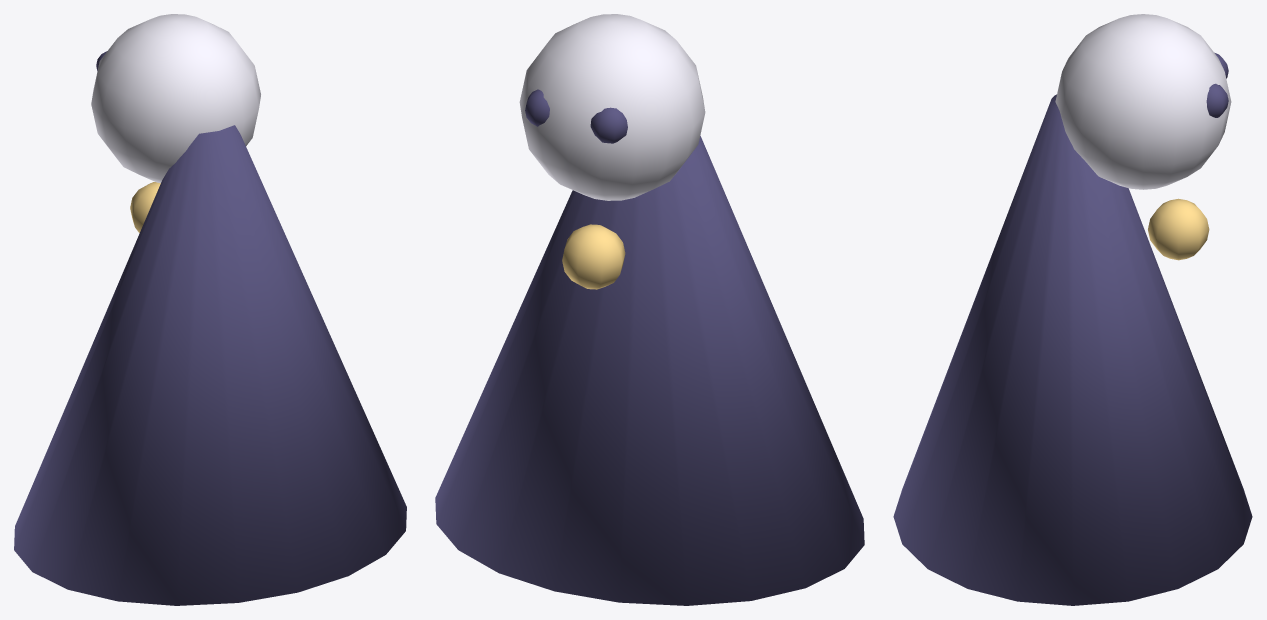
The model's file is opera_phantom.glb.
The picture shows the model from 3 angles, left to right: view 1: azimuth 30°, elevation 25°; view 2: azimuth 150°, elevation 25°; view 3: azimuth 270°, elevation 25°; orthographic projection. The views are drawn at different scales.
Parts seen in each view (by area): view 1: gown, head, bow; view 2: gown, head, bow, eye, eye.001; view 3: gown, head, bow, eye.001.
Boxes of the visible parts, x1,y1,x2,y2 form: gown: [14, 125, 406, 605]; head: [91, 14, 260, 183]; bow: [130, 182, 160, 232]; gown: [435, 136, 864, 605]; head: [519, 14, 705, 200]; bow: [562, 224, 625, 289]; eye: [590, 107, 627, 143]; eye.001: [525, 89, 549, 126]; gown: [893, 94, 1252, 605]; head: [1055, 14, 1231, 189]; bow: [1148, 198, 1209, 260]; eye.001: [1206, 83, 1228, 117].
Bounding box in the file's own units: 4.8 × 6.2 × 4.08.
